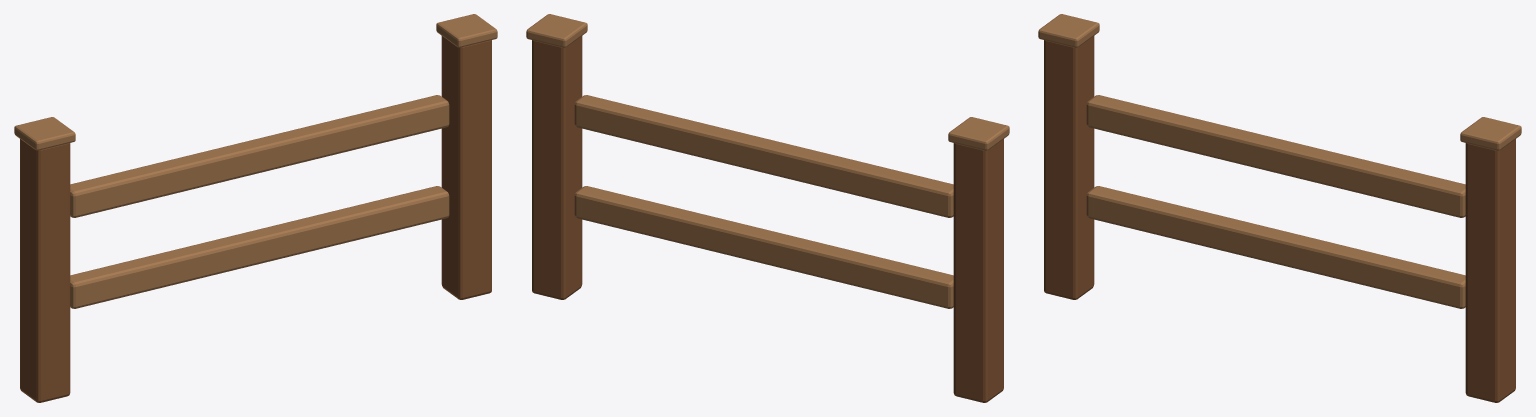
File: fence_straight_2m.glb
3 views of the same model, side by side, from view 1: azimuth 30°, elevation 25°; view 2: azimuth 150°, elevation 25°; view 3: azimuth 330°, elevation 25° (orthographic).
Parts seen in each view (by area): view 1: rail.001, rail, post.004, post.005, post_cap.001, post_cap; view 2: rail.001, rail, post.004, post.005, post_cap.001, post_cap; view 3: rail.001, rail, post.005, post.004, post_cap, post_cap.001.
Boxes of the visible parts, x1=… form: rail.001: x1=70, y1=95, x2=449, y2=217; rail: x1=70, y1=186, x2=449, y2=308; post.004: x1=20, y1=139, x2=70, y2=402; post.005: x1=441, y1=36, x2=491, y2=299; post_cap.001: x1=436, y1=14, x2=497, y2=47; post_cap: x1=14, y1=117, x2=75, y2=150; rail.001: x1=574, y1=95, x2=953, y2=217; rail: x1=574, y1=186, x2=953, y2=308; post.004: x1=953, y1=139, x2=1003, y2=402; post.005: x1=532, y1=36, x2=582, y2=299; post_cap.001: x1=526, y1=14, x2=587, y2=47; post_cap: x1=948, y1=117, x2=1009, y2=150; rail.001: x1=1086, y1=95, x2=1465, y2=217; rail: x1=1086, y1=186, x2=1465, y2=308; post.005: x1=1465, y1=139, x2=1515, y2=402; post.004: x1=1044, y1=36, x2=1094, y2=299; post_cap: x1=1038, y1=14, x2=1099, y2=47; post_cap.001: x1=1460, y1=117, x2=1521, y2=150.
Bounding box in the file's own units: 2.19 × 1.2 × 0.19.
